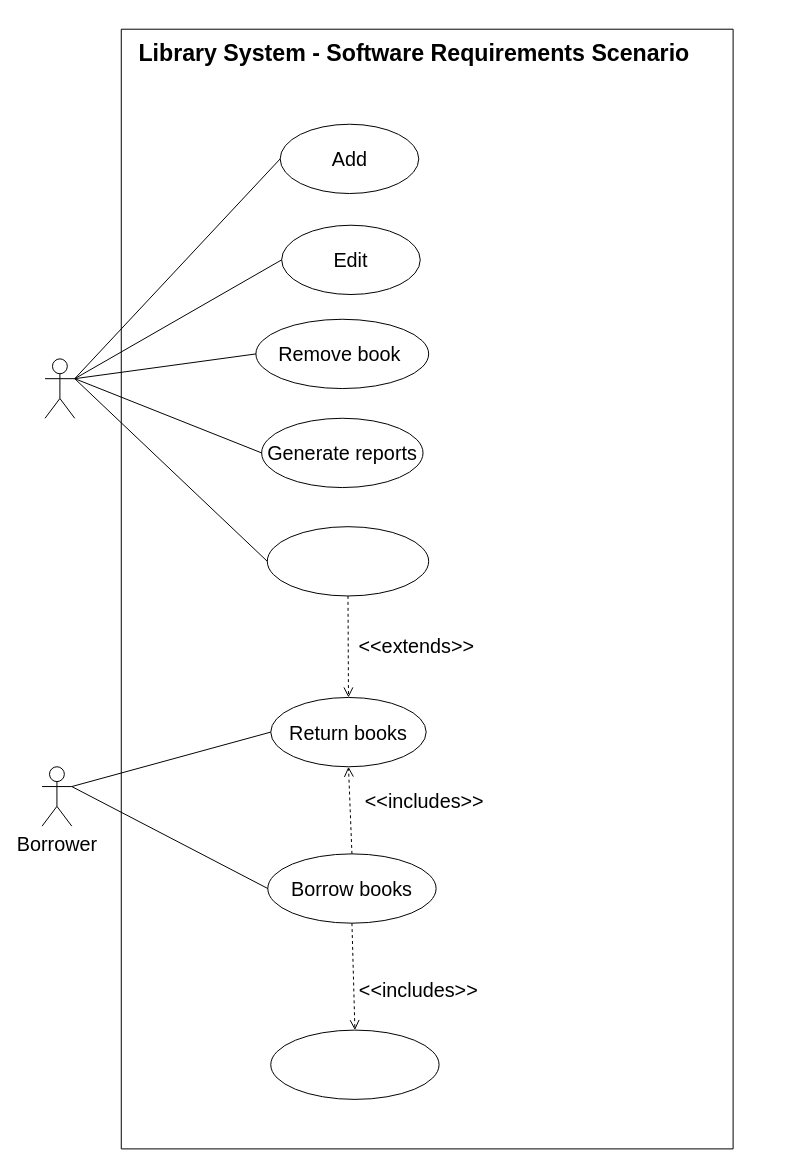
This 792x1166 diagram has some shape labels left out. Each missing label, with the box of its shape:
Due date: (270, 1029, 439, 1099)
Impose Fine: (266, 526, 429, 596)
Librarian: (44, 358, 75, 418)
